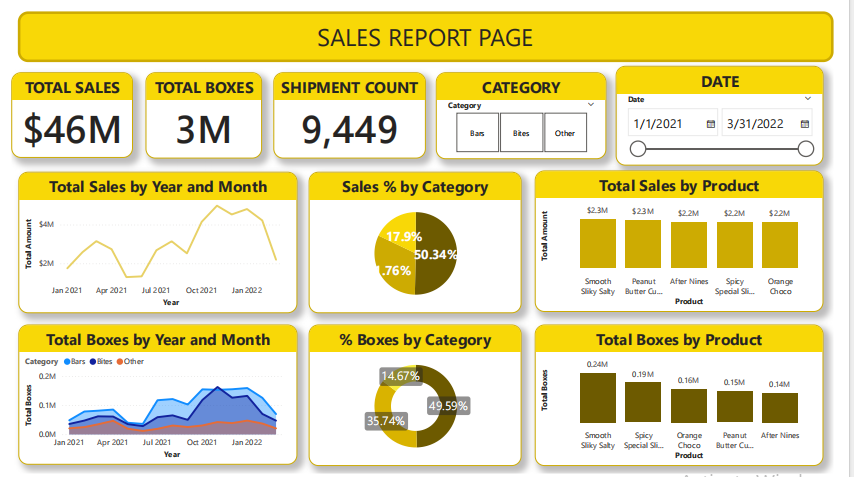

Layout of this report page (visuals, bound fields, positions):
{"tool":"powerbi","page":{"name":"Sales Report Sheet","canvas":[1280,720],"ordinal":0},"visuals":[{"type":"textbox","box":[10.2,0,1270.2,79],"z":0},{"type":"card","title":"TOTAL SALES","fields":{"Values":["Sum(sales.Amount)"]},"box":[0,95.1,188.8,133.2],"z":1000},{"type":"card","title":"TOTAL BOXES","fields":{"Values":["sales.Total Boxes"]},"box":[209.2,94.7,180.6,134.1],"z":2000},{"type":"card","title":"SHIPMENT COUNT","fields":{"Values":["sales.Shipment Count"]},"box":[407.6,94.7,237.8,134.1],"z":3000},{"type":"slicer","title":"DATE","fields":{"Values":["sales.Date"]},"box":[941,84.9,323.4,155.1],"z":4000},{"type":"slicer","title":"CATEGORY","fields":{"Values":["products.Category"]},"box":[661.5,95.1,264.9,134.6],"z":5000},{"type":"lineChart","title":"Total Sales by Year and Month","fields":{"Category":["sales.Date.Variation.Date Hierarchy.Year","sales.Date.Variation.Date Hierarchy.Quarter","sales.Date.Variation.Date Hierarchy.Month","sales.Date.Variation.Date Hierarchy.Day"],"Y":["sales.Total Amount"]},"box":[10.7,250.3,434.4,219.9],"z":6000},{"type":"areaChart","title":"Total Boxes by Year and Month","fields":{"Category":["sales.Date.Variation.Date Hierarchy.Year","sales.Date.Variation.Date Hierarchy.Quarter","sales.Date.Variation.Date Hierarchy.Month","sales.Date.Variation.Date Hierarchy.Day"],"Y":["sales.Total Boxes"],"Series":["products.Category"]},"box":[10.7,488,434.4,218.1],"z":7000},{"type":"pieChart","title":"Sales % by Category","fields":{"Category":["products.Category"],"Y":["sales.Total Amount"]},"box":[463,250.3,330.7,219.9],"z":8000},{"type":"donutChart","title":"% Boxes by Category","fields":{"Category":["products.Category"],"Y":["sales.Total Boxes"]},"box":[463,488,330.7,219.9],"z":9000},{"type":"clusteredColumnChart","title":"Total Sales by Product","fields":{"Category":["sales.Product"],"Y":["sales.Total Amount"]},"box":[815.2,248.5,448.7,219.9],"z":10000},{"type":"clusteredColumnChart","title":"Total Boxes by Product","fields":{"Category":["sales.Product"],"Y":["sales.Total Boxes"]},"box":[815.2,488,448.7,219.9],"z":11000}]}

Visuals, with their boxes in screenshot pixels (x1, y1, x2, y2), scaled from the page's 1280x720 canvas onto the 854x477 screenshot:
textbox: BBox(7, 0, 853, 52)
"TOTAL SALES" card: BBox(0, 63, 126, 151)
"TOTAL BOXES" card: BBox(140, 63, 260, 152)
"SHIPMENT COUNT" card: BBox(272, 63, 431, 152)
"DATE" slicer: BBox(628, 56, 844, 159)
"CATEGORY" slicer: BBox(441, 63, 618, 152)
"Total Sales by Year and Month" lineChart: BBox(7, 166, 297, 312)
"Total Boxes by Year and Month" areaChart: BBox(7, 323, 297, 468)
"Sales % by Category" pieChart: BBox(309, 166, 530, 312)
"% Boxes by Category" donutChart: BBox(309, 323, 530, 469)
"Total Sales by Product" clusteredColumnChart: BBox(544, 165, 843, 310)
"Total Boxes by Product" clusteredColumnChart: BBox(544, 323, 843, 469)
